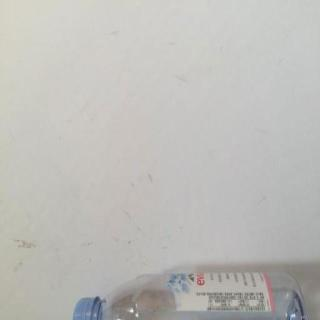Plastic-bottle: (72, 268, 310, 320)
